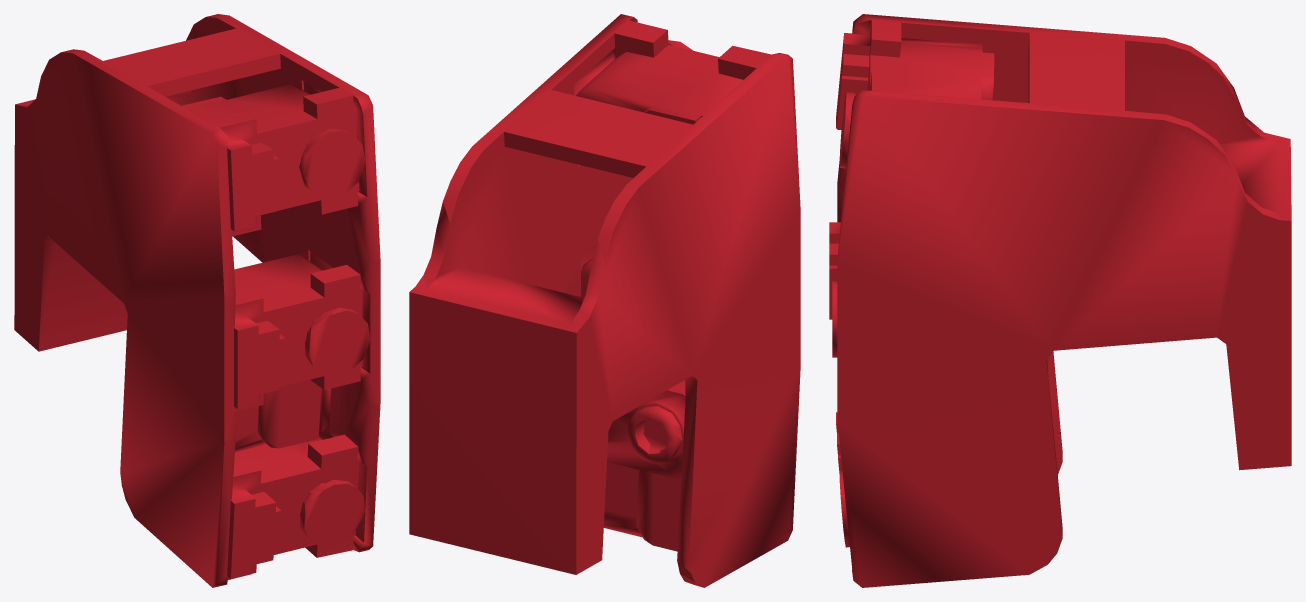
The picture shows the model from 3 angles, left to right: view 1: azimuth 30°, elevation 25°; view 2: azimuth 150°, elevation 25°; view 3: azimuth 270°, elevation 25°; orthographic projection. The views are drawn at different scales.
Parts seen in each view (by area): view 1: 0_base.001; view 2: 0_base.001; view 3: 0_base.001.
Part boxes in pixels (left/top/right/bottom): 0_base.001: left=14, top=14, right=380, bottom=587; 0_base.001: left=409, top=14, right=800, bottom=587; 0_base.001: left=829, top=14, right=1291, bottom=587.
Bounding box in the file's own units: 0.0408 × 0.1135 × 0.0967.
